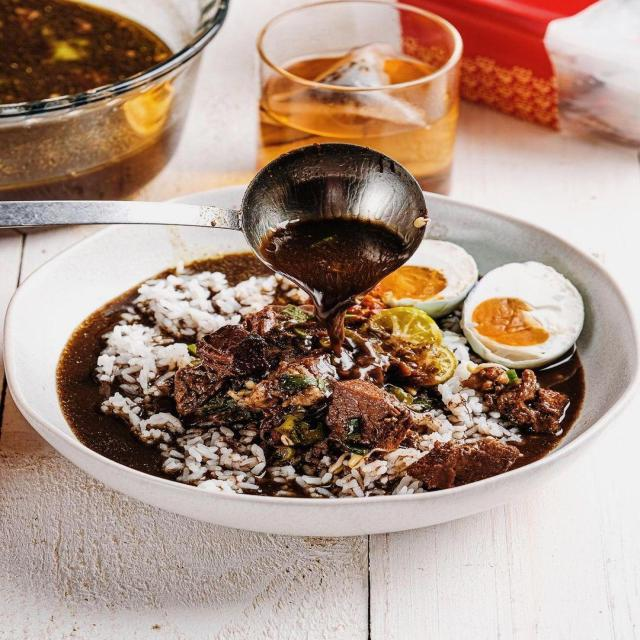Rawon: (43, 221, 592, 495)
